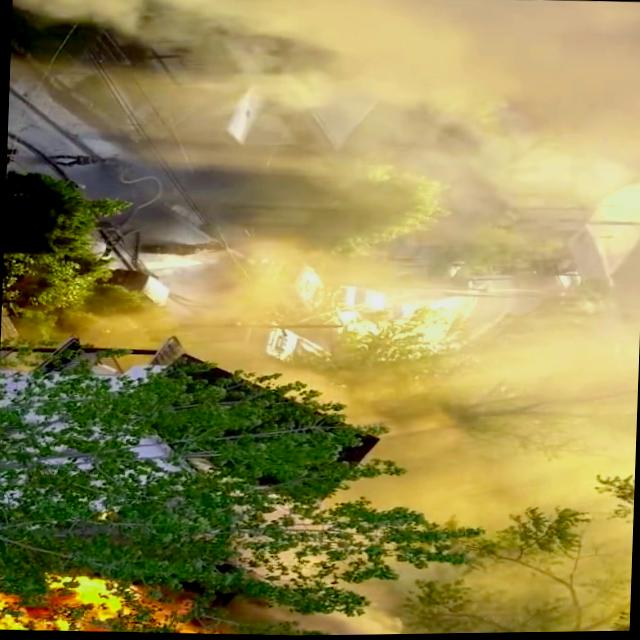smoke: (0, 577, 331, 640)
